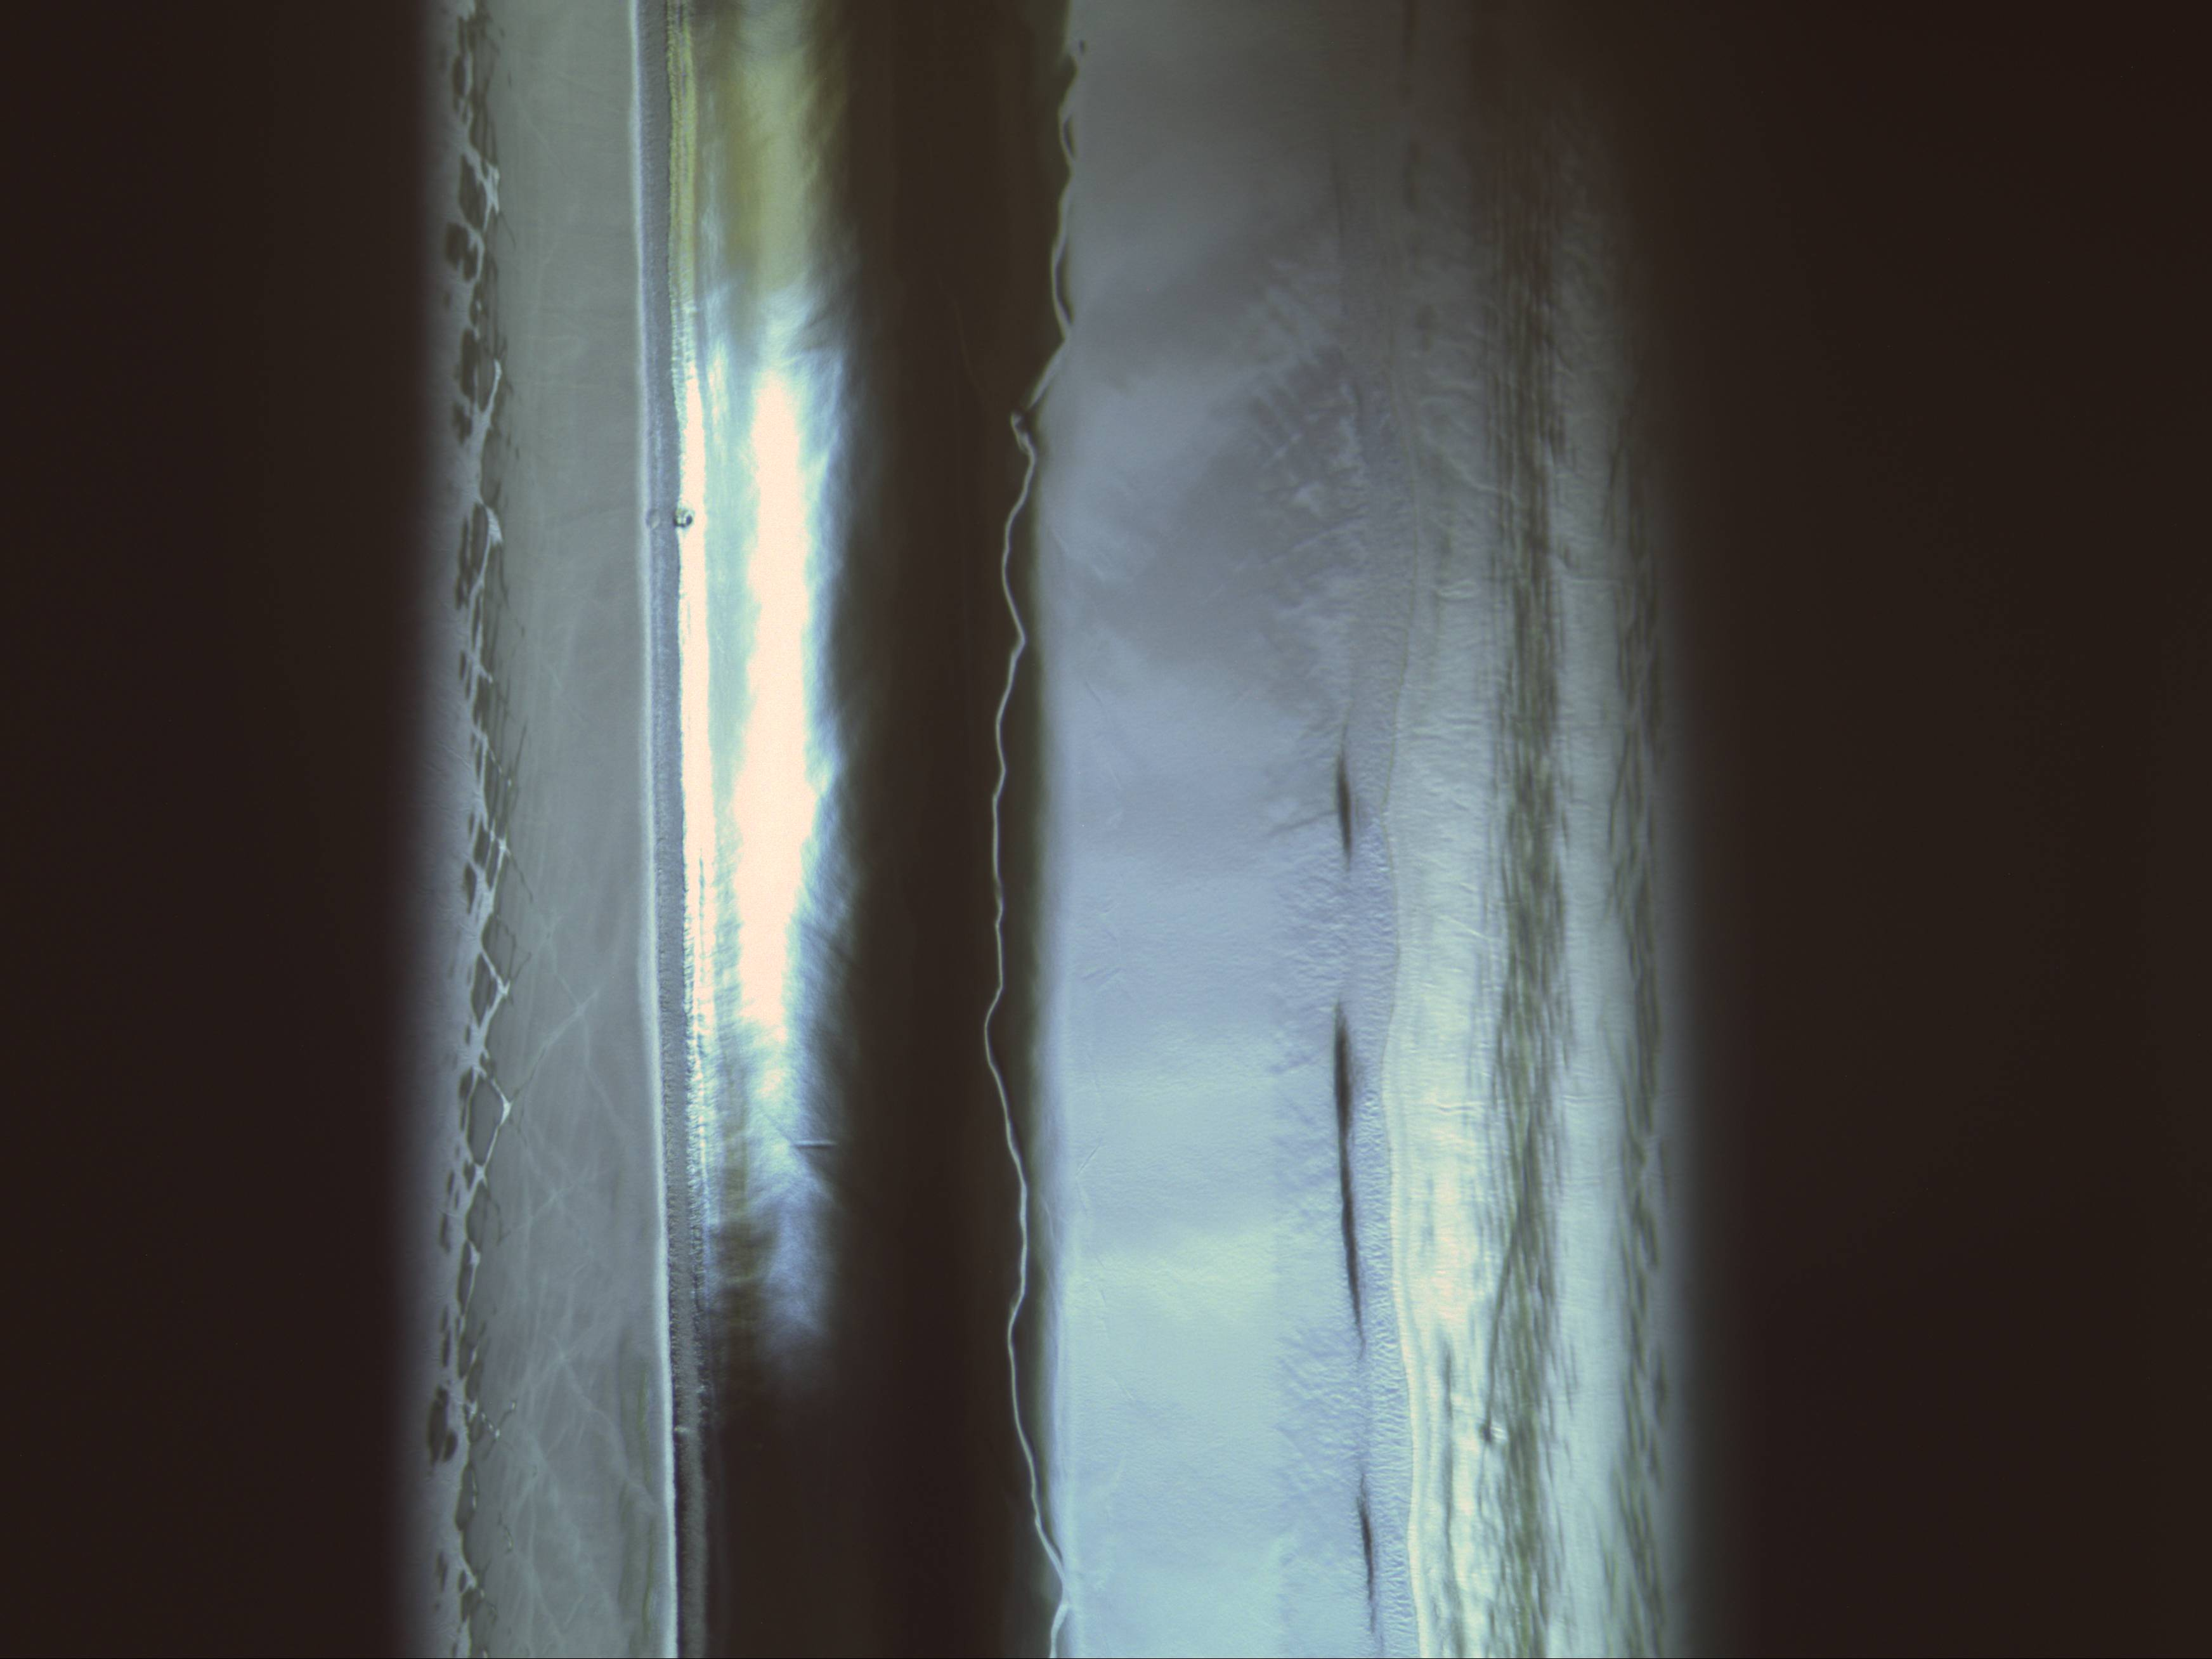defect: (660, 495, 698, 533)
